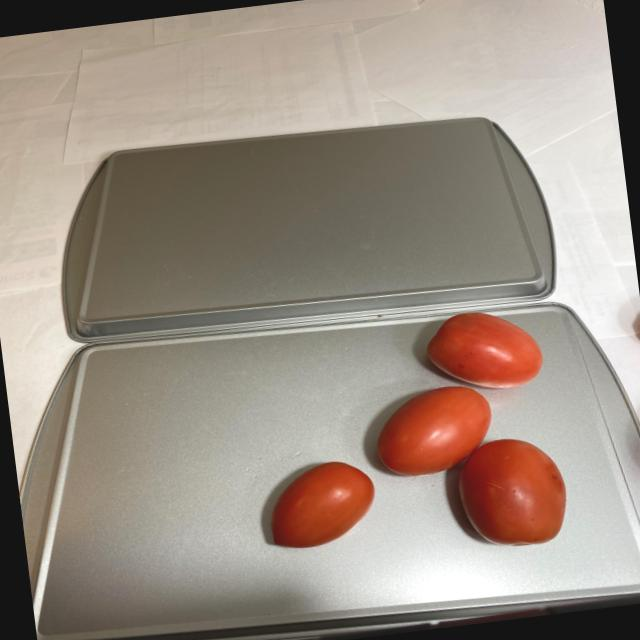tomato: (231, 304, 576, 578)
